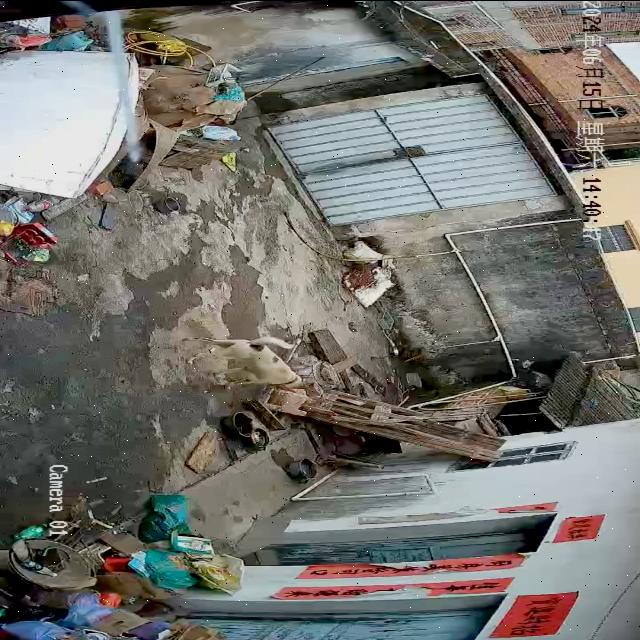dog: (183, 335, 305, 387)
